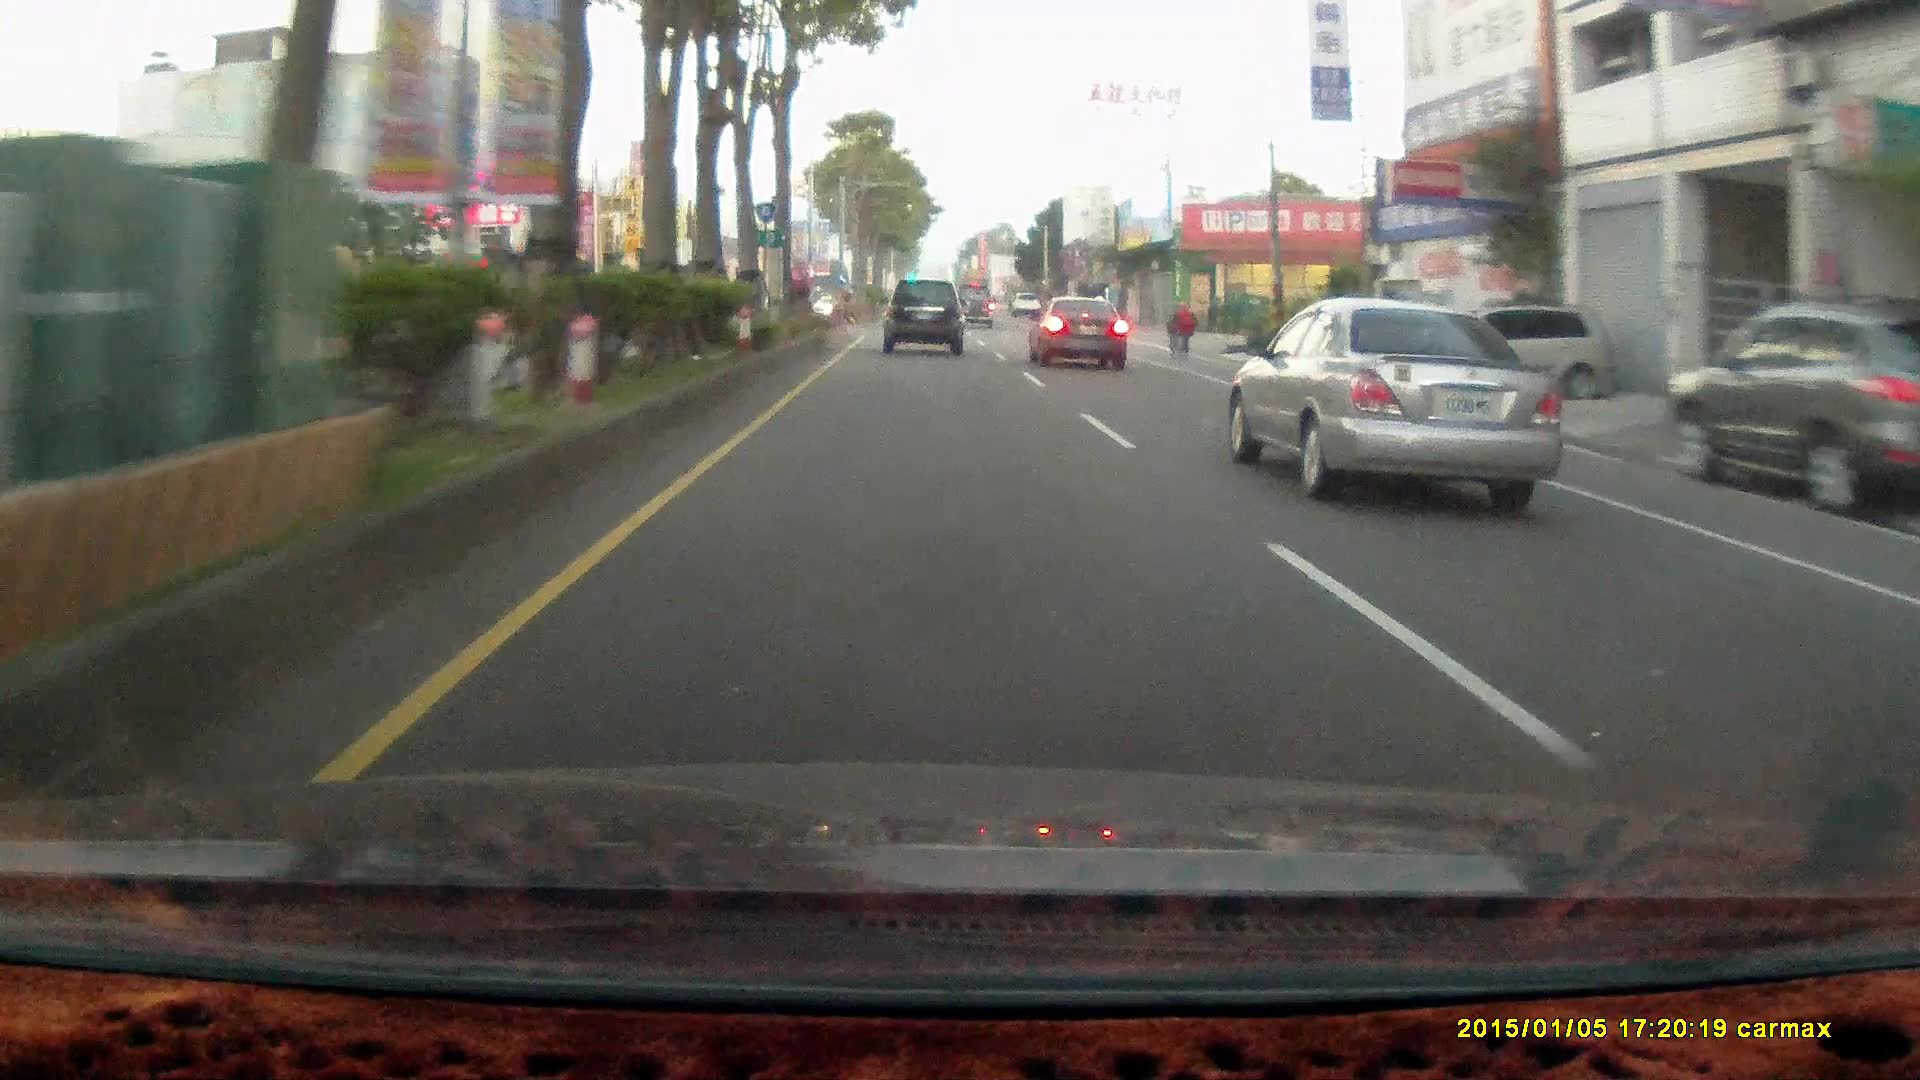pedestrian: (1173, 299, 1196, 356), (1175, 301, 1196, 356)
vehicle: (1235, 297, 1565, 497), (1666, 297, 1920, 522), (1661, 296, 1920, 511), (1418, 301, 1613, 401), (1421, 302, 1616, 402), (1026, 299, 1132, 374), (1026, 294, 1127, 370), (882, 281, 970, 356), (882, 278, 963, 353), (956, 282, 995, 328)
